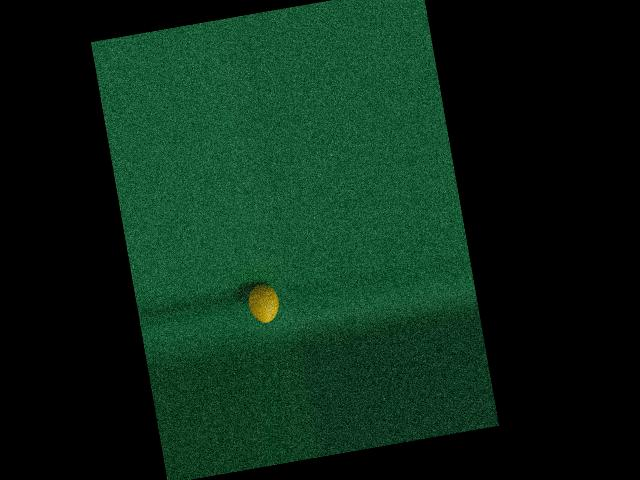egg: (246, 281, 282, 325)
